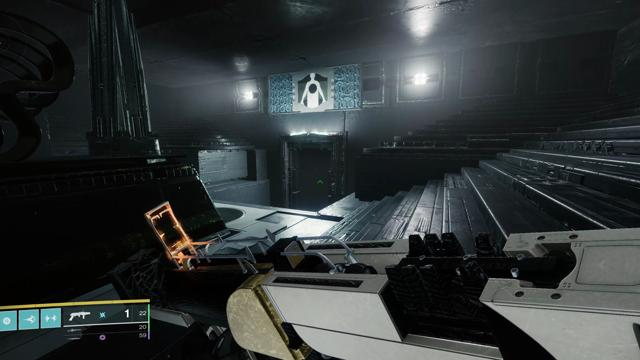grief: (298, 73, 327, 107)
